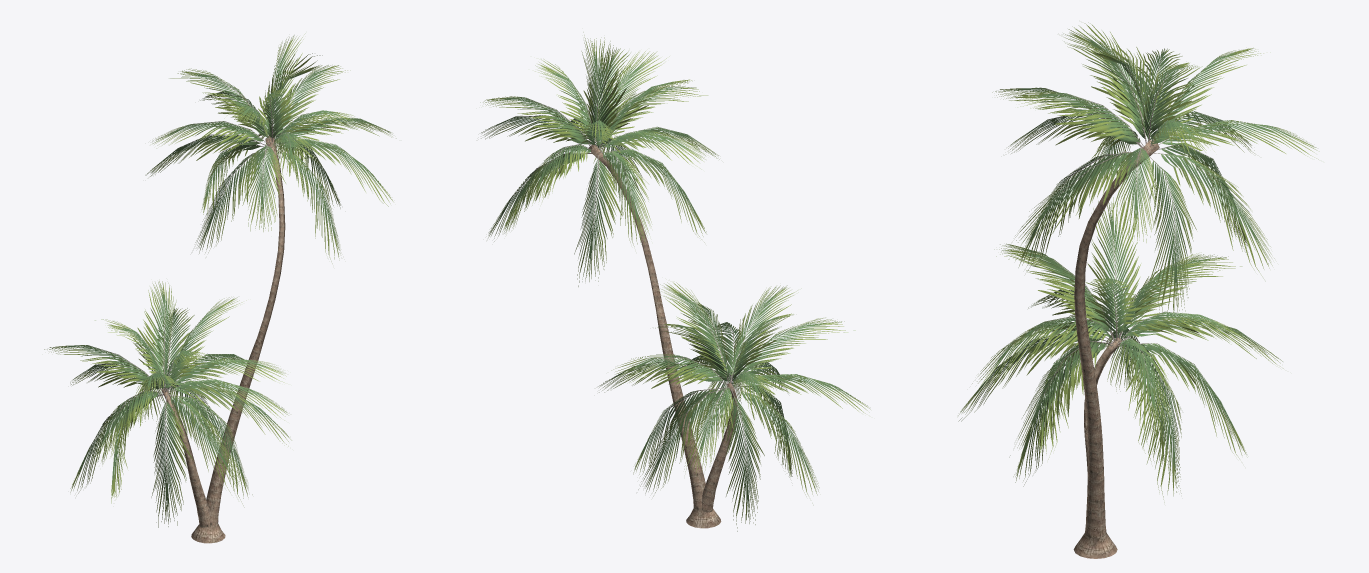
Rendered from palm_coconut_2.glb.
The picture shows the model from 3 angles, left to right: view 1: azimuth 30°, elevation 25°; view 2: azimuth 150°, elevation 25°; view 3: azimuth 270°, elevation 25°; orthographic projection. The views are drawn at different scales.
Visible parts, largest first — view 1: prop; view 2: prop; view 3: prop.
Boxes of the visible parts, box(x1,y1,x2,y2) form: prop: box(44, 33, 396, 543); prop: box(480, 32, 870, 531); prop: box(958, 22, 1319, 558).
Bounding box in the file's own units: 11.9 × 13.3 × 8.88.
2 materials, 2 textured.
